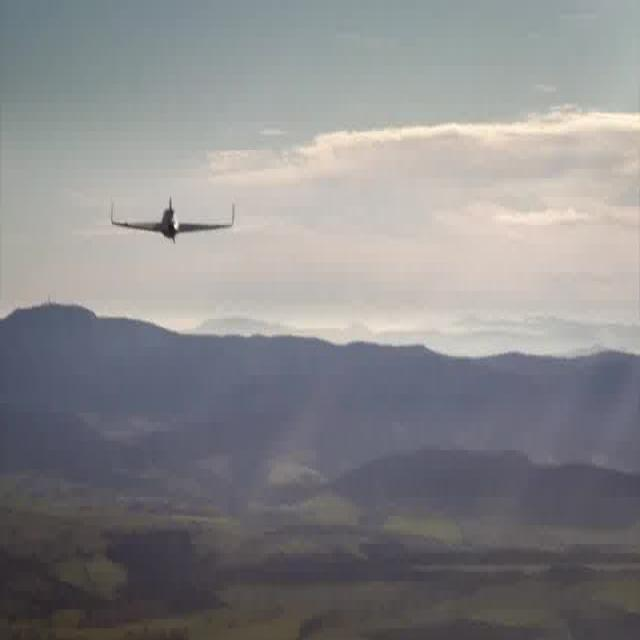iha: (109, 192, 241, 254)
